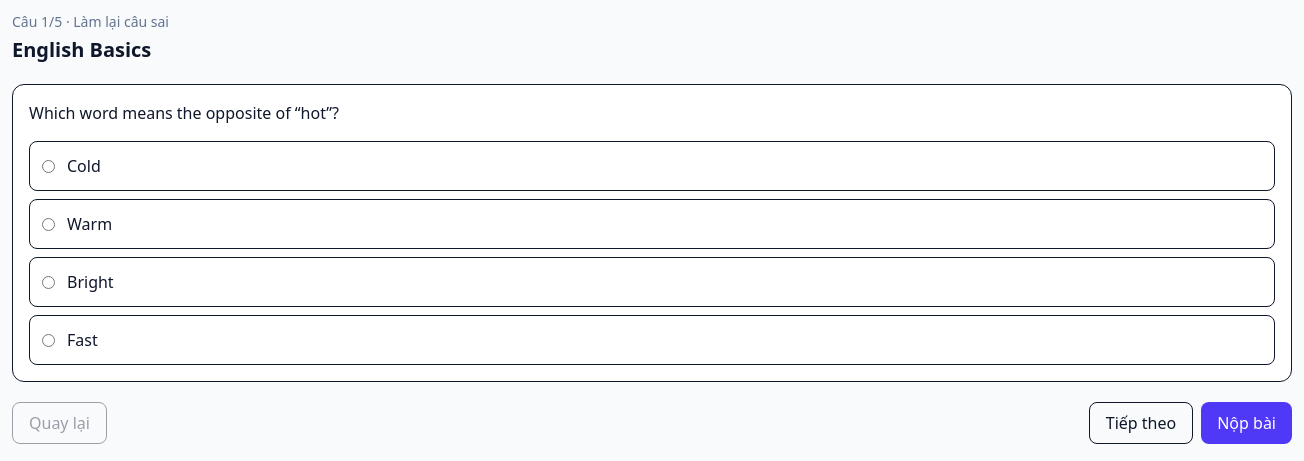
Test: QuizPlayer › allows submitting an incomplete quiz and shows the result
Click the button "Nộp bài" at x=1247, y=423, box [1201,402,1292,444]
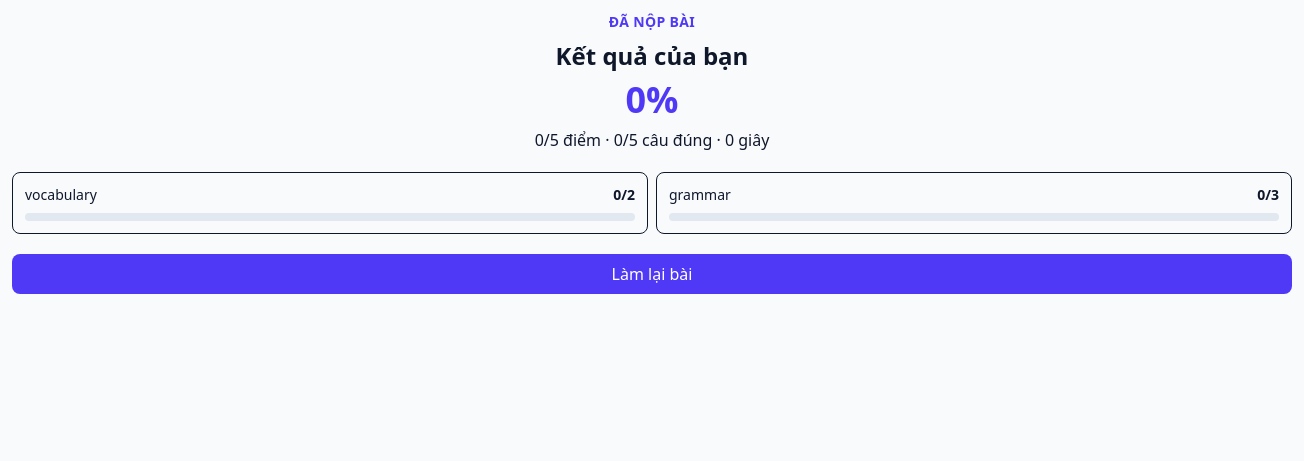
expect the heading "Kết quả của bạn" is shown: met, box [556,39,748,72]
expect the text "0/5 điểm · 0/5 câu đúng · 0 giây" is shown: met, box [535,129,769,151]
